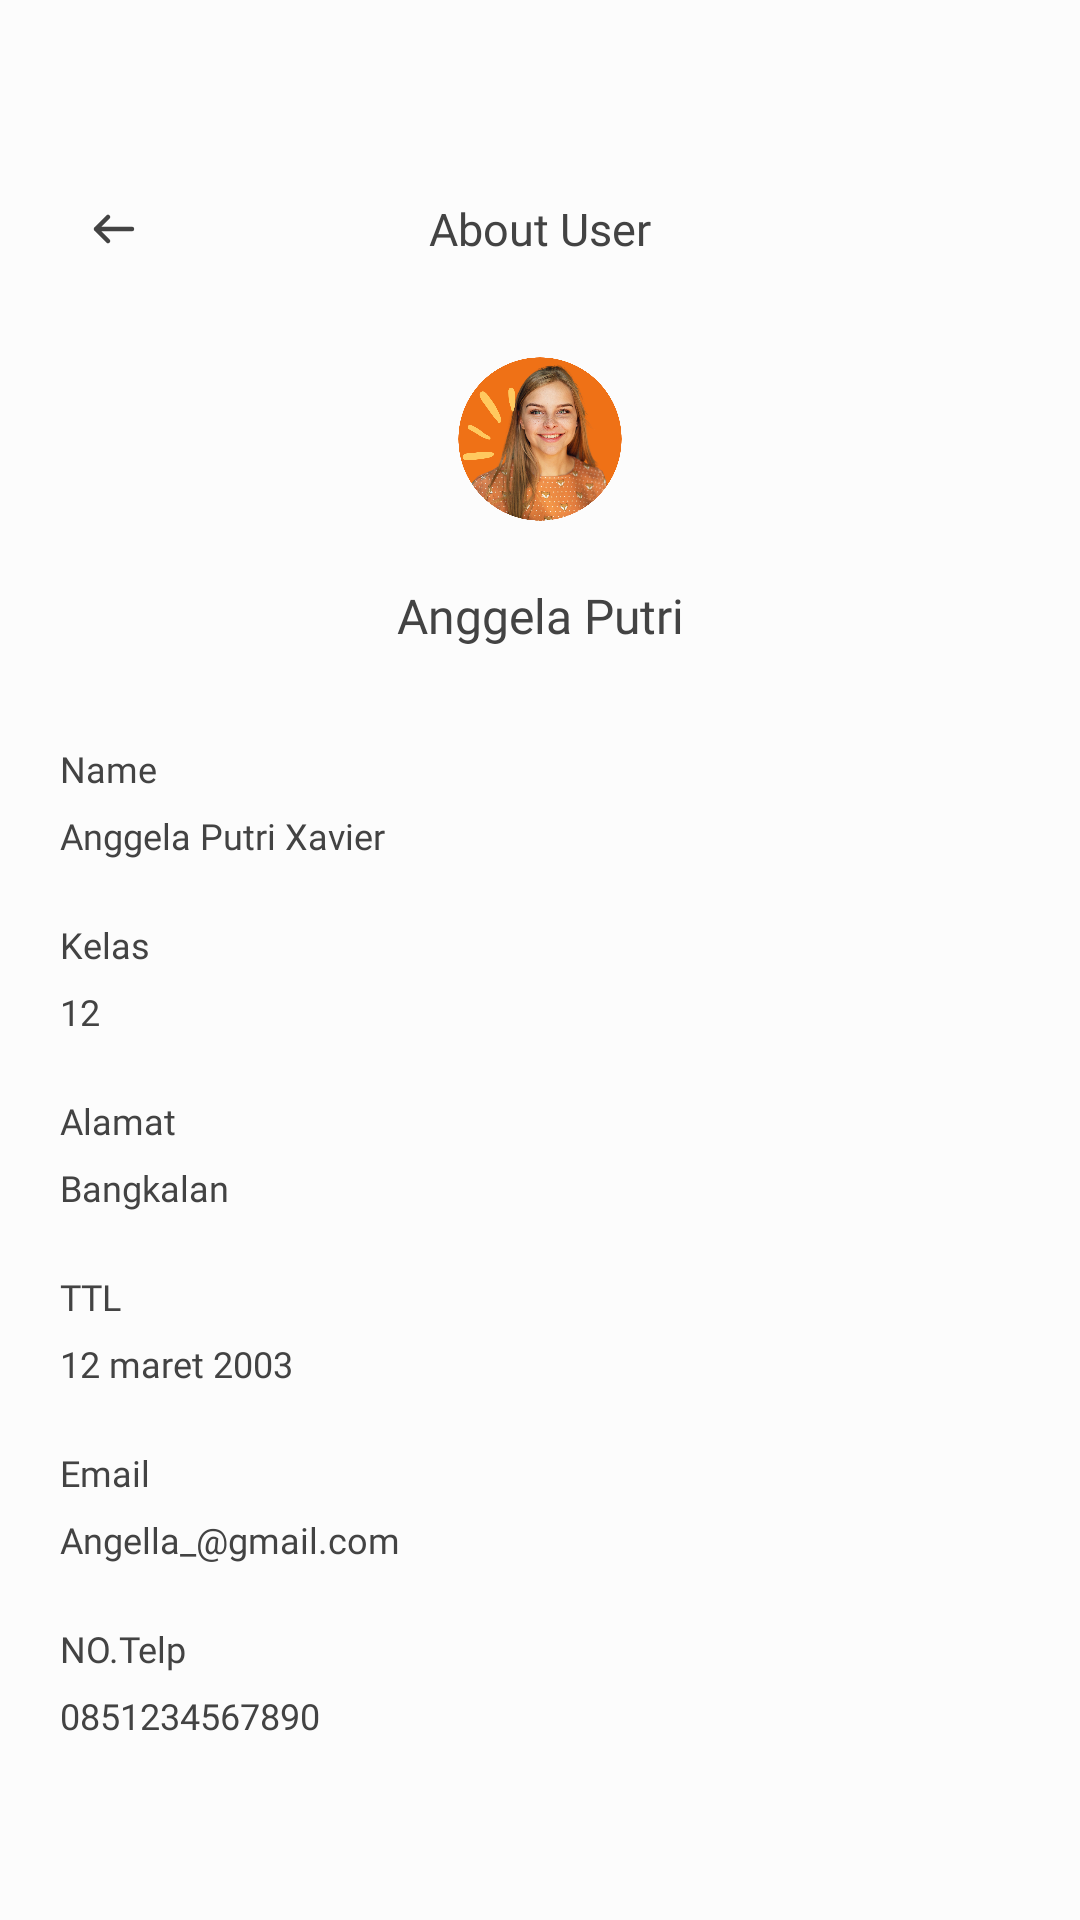

Screen size 1080x1920. Icon name, then its box in pixels as region(x1, y1, x2, y2):
back: region(94, 214, 134, 244)
profile: region(458, 357, 622, 521)
